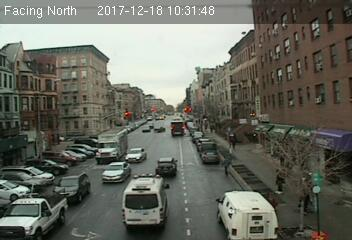car: (2, 187, 67, 240), (53, 171, 88, 202), (103, 162, 129, 181), (156, 156, 177, 177), (126, 147, 146, 162), (202, 150, 219, 163)
police: (122, 173, 168, 227)
truck: (219, 193, 275, 240), (96, 128, 126, 159)
ups: (170, 120, 185, 136)
